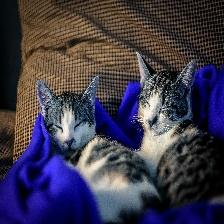kedo: (137, 51, 223, 202), (38, 76, 96, 156)
